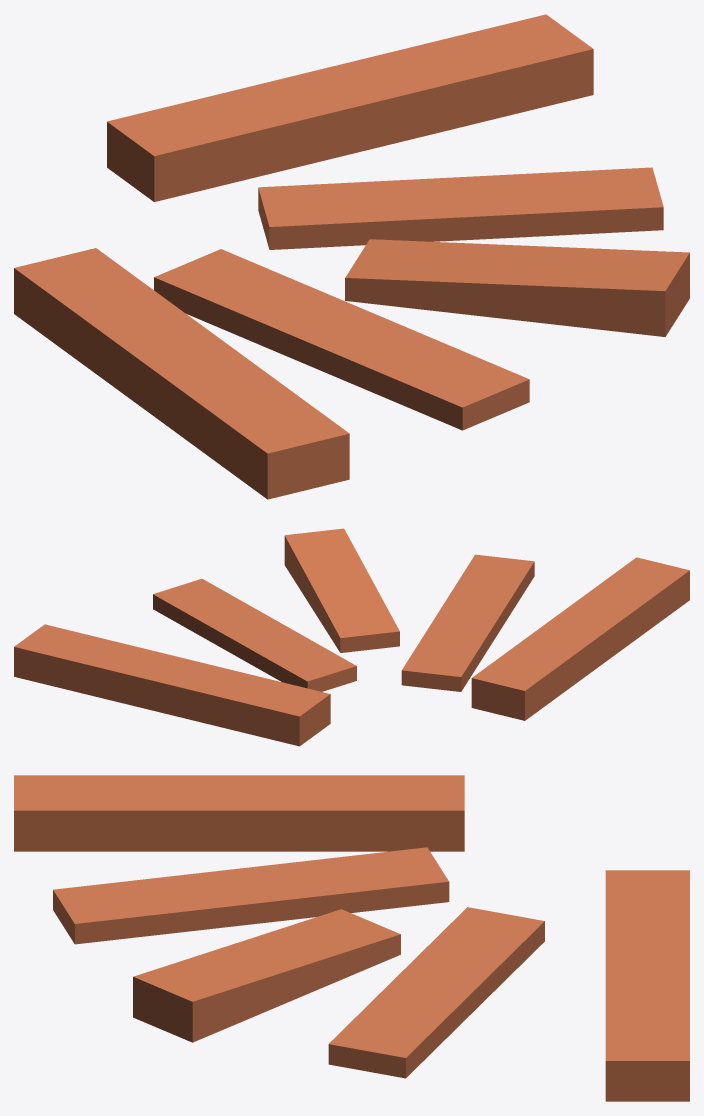
The model's file is path_woodCorner.dae.
The picture shows the model from 3 angles, top to bottom: view 1: azimuth 30°, elevation 25°; view 2: azimuth 150°, elevation 25°; view 3: azimuth 270°, elevation 25°; orthographic projection. The views are drawn at different scales.
Parts seen in each view (by area): view 1: path_woodCorner; view 2: path_woodCorner; view 3: path_woodCorner.
Part boxes in pixels (<box>): path_woodCorner: <box>14,14,689,499</box>; path_woodCorner: <box>14,528,689,746</box>; path_woodCorner: <box>14,775,689,1101</box>.
Size of the model in its own units: 0.75 by 0.05 by 0.75.
